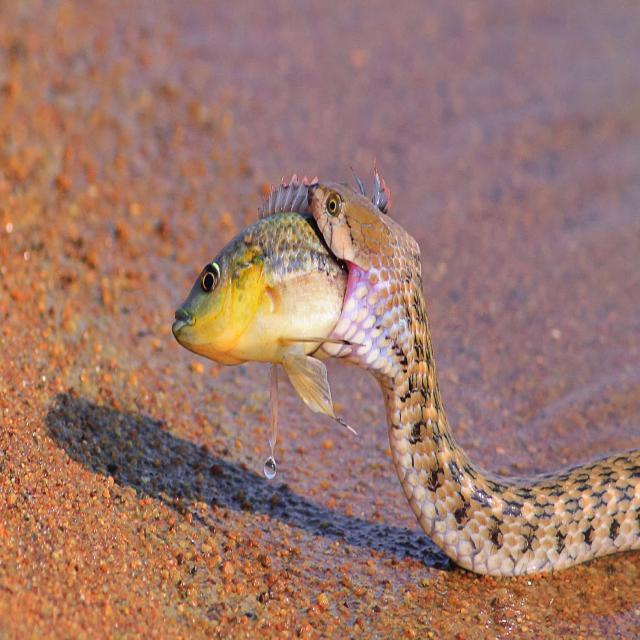Snake: (166, 140, 640, 588)
